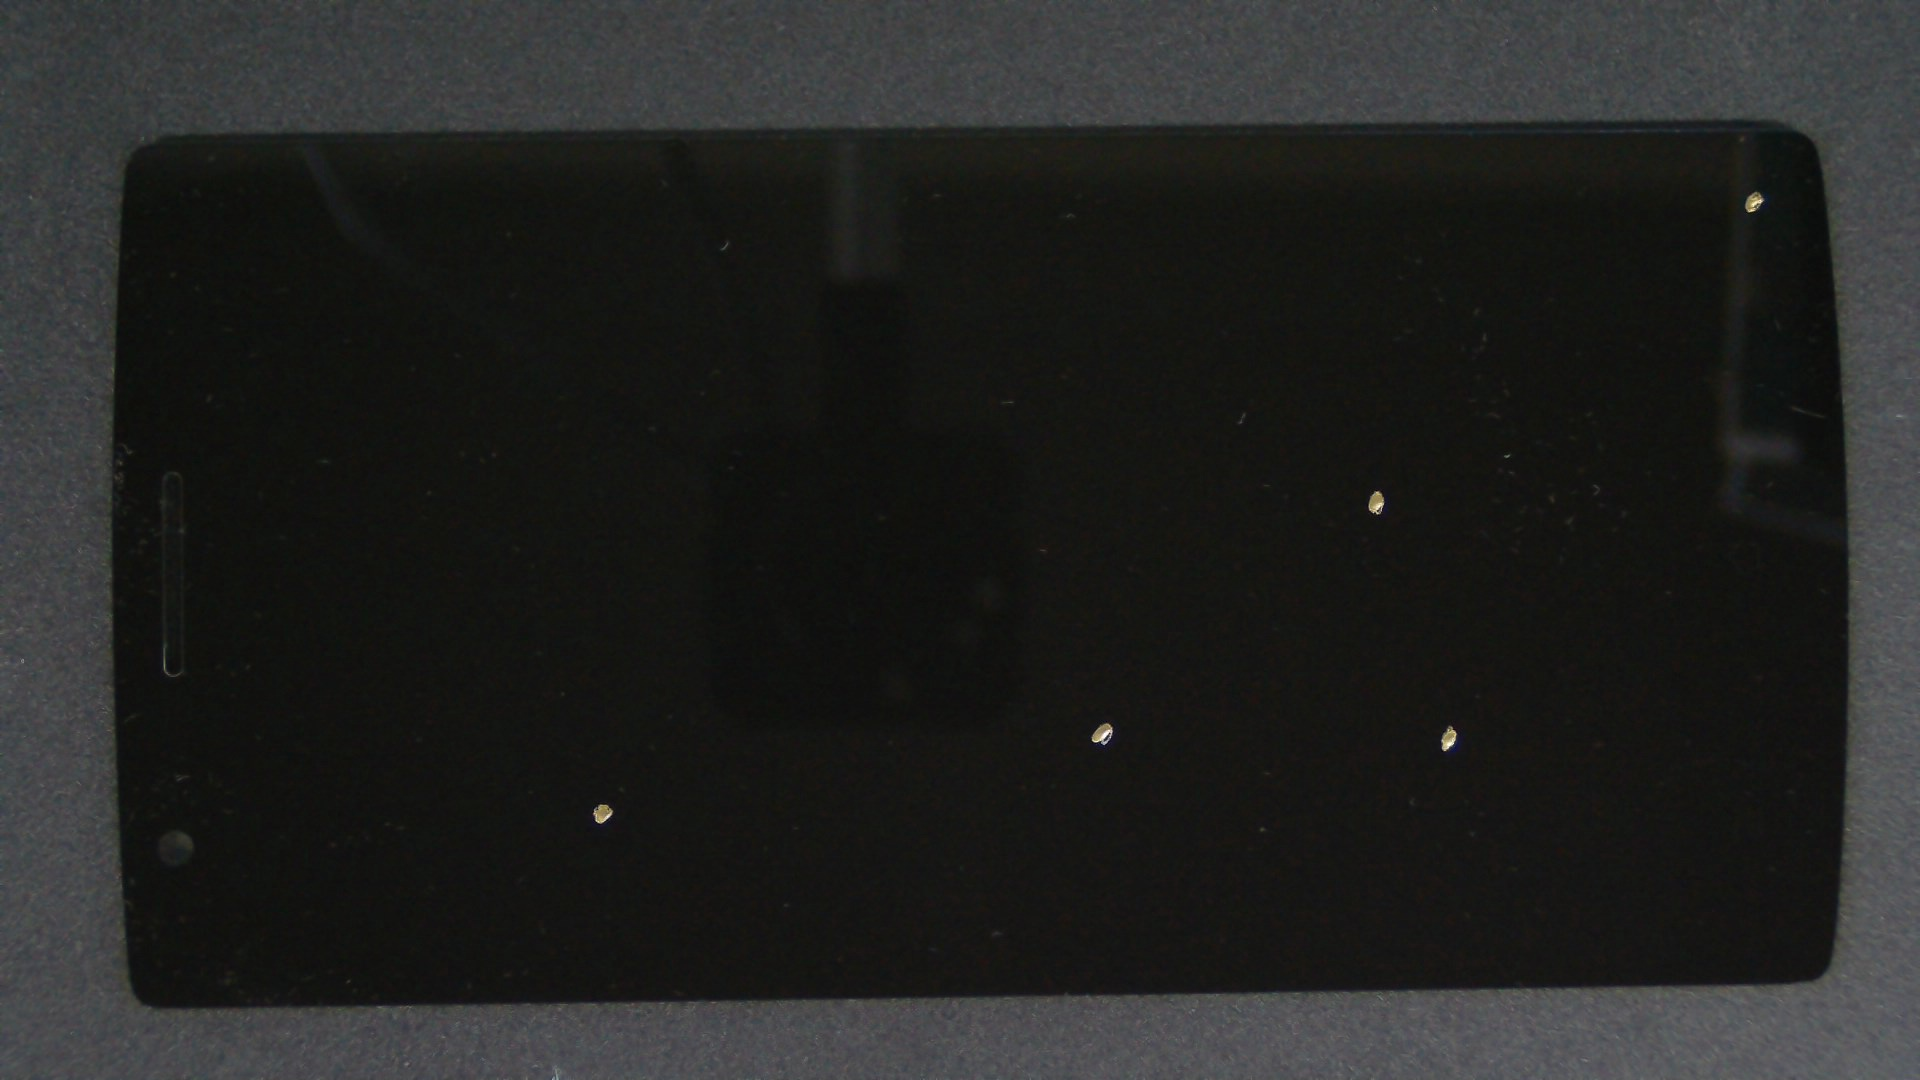oil: (727, 361, 1920, 1080), (553, 360, 1658, 1080), (688, 244, 1920, 736), (301, 401, 901, 1080), (878, 95, 1920, 287)
